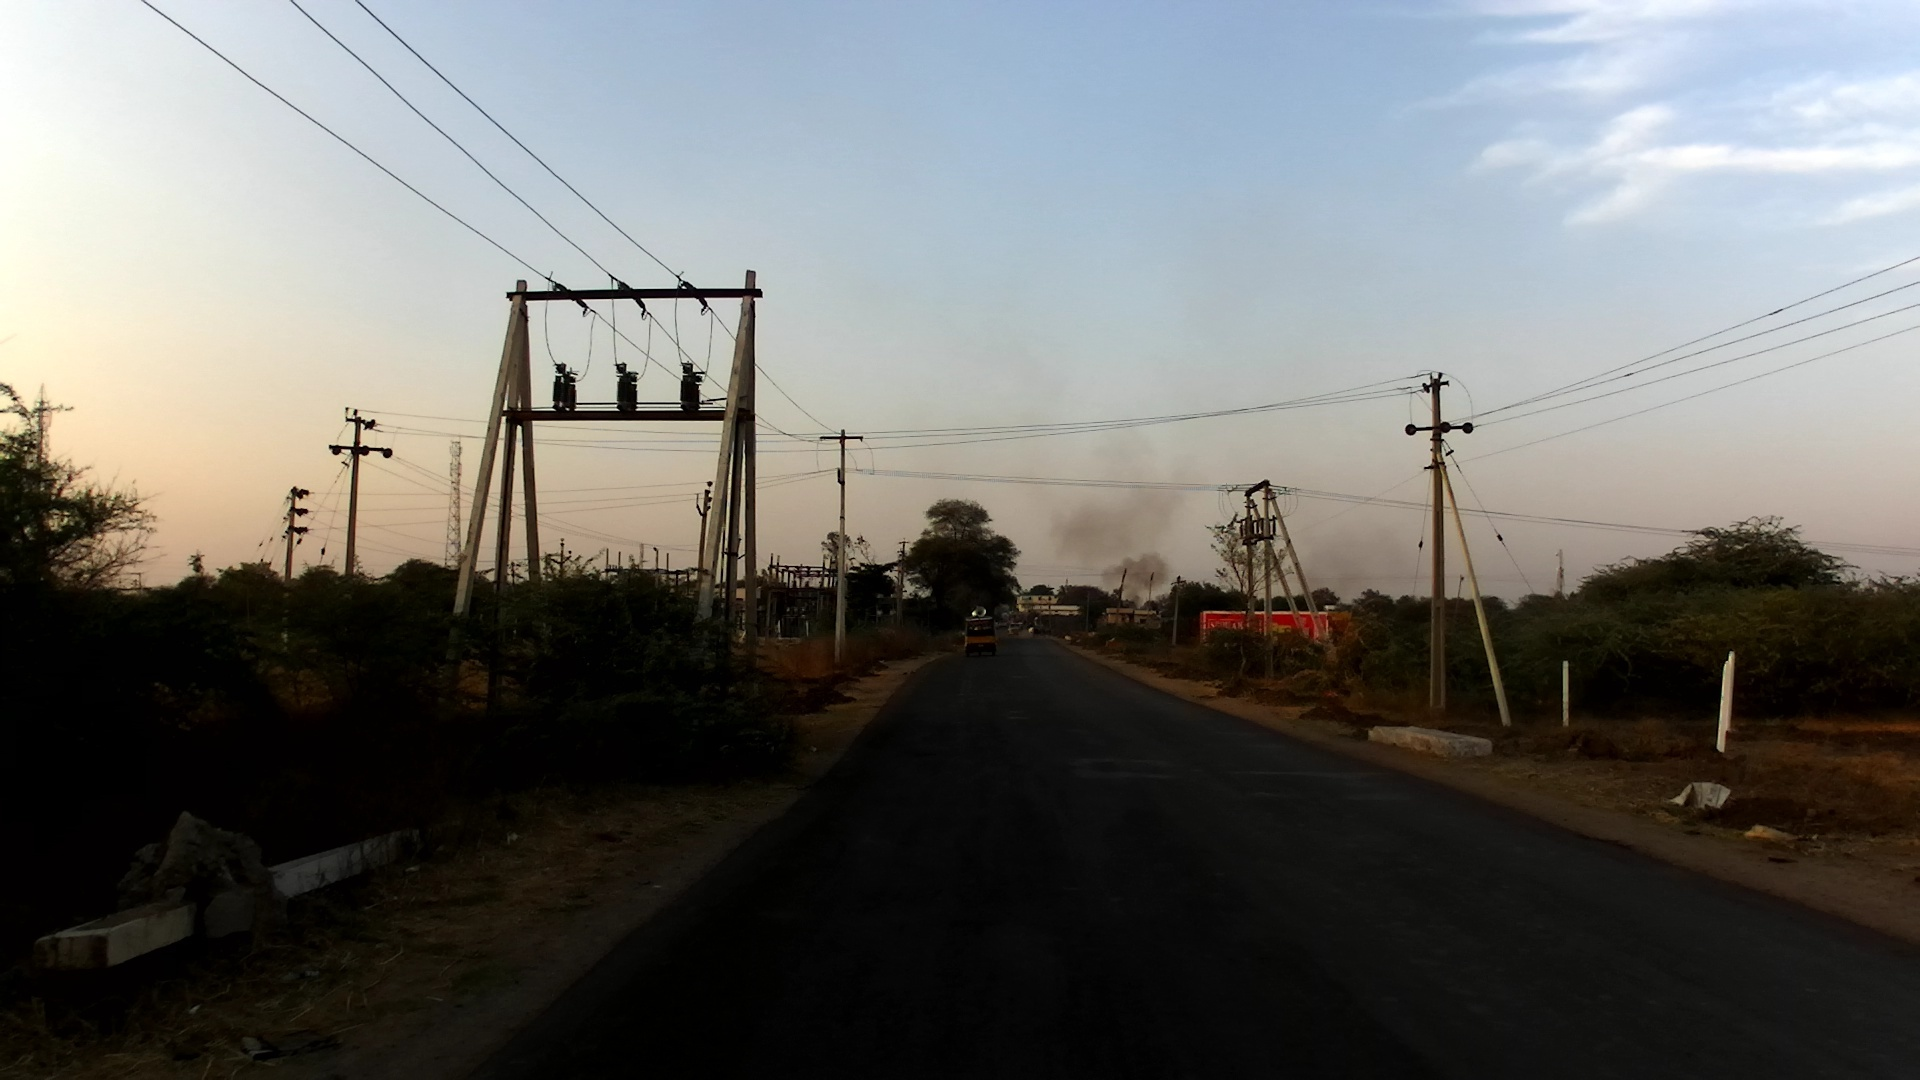car: (963, 605, 1000, 661), (1004, 621, 1022, 636)
